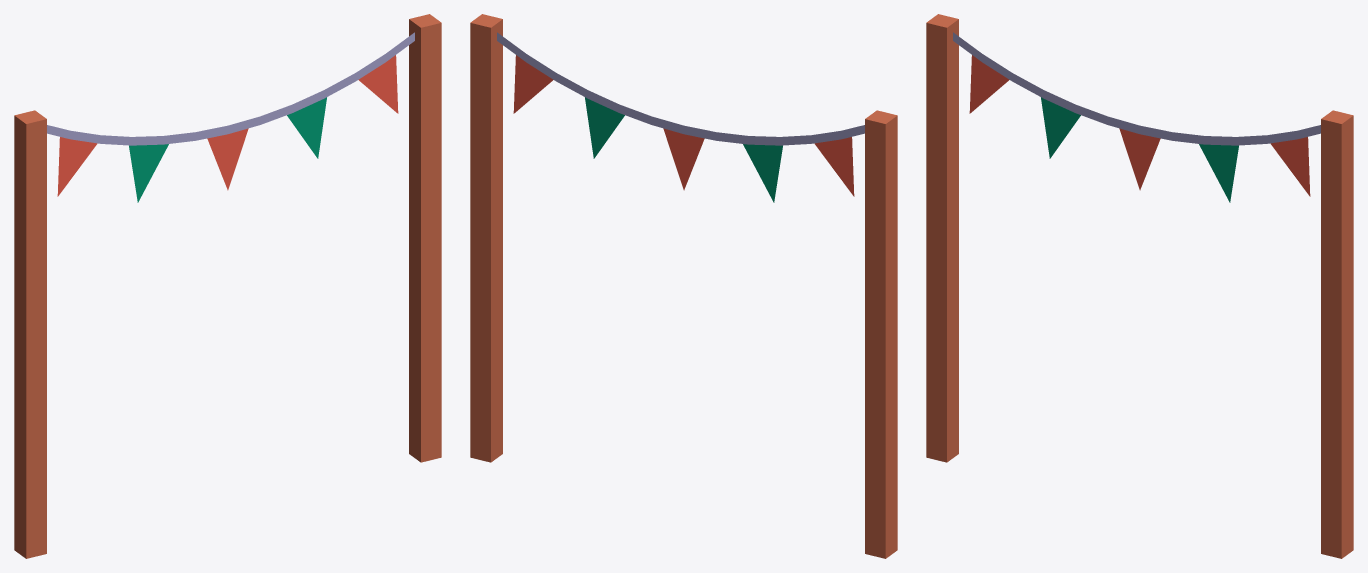
The model's file is Banderole.fbx.
3 views of the same model, side by side, from view 1: azimuth 30°, elevation 25°; view 2: azimuth 150°, elevation 25°; view 3: azimuth 330°, elevation 25° (orthographic).
Parts seen in each view (by area): view 1: mergedBlocks; view 2: mergedBlocks; view 3: mergedBlocks.
Boxes of the visible parts, bbox=[...] form: mergedBlocks: bbox=[14, 14, 441, 558]; mergedBlocks: bbox=[470, 14, 897, 558]; mergedBlocks: bbox=[926, 14, 1353, 558].
Size of the model in its own units: 10 by 10 by 0.5.
